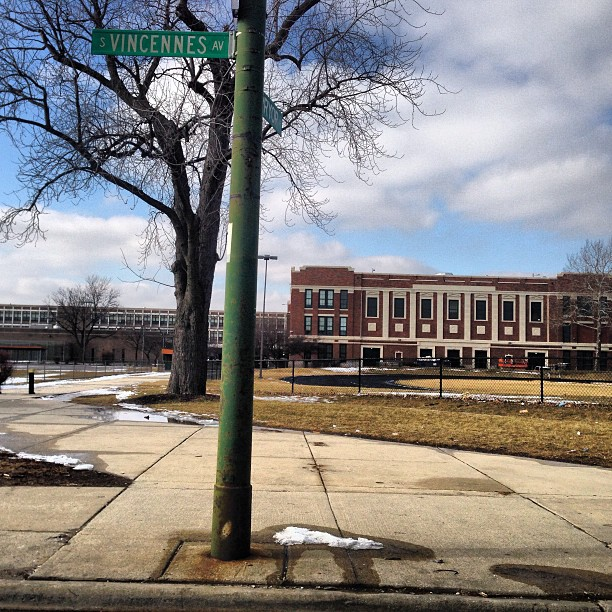building: (291, 262, 612, 388), (1, 302, 288, 368)
sign: (90, 26, 235, 60)
sky: (343, 1, 612, 268)
tree: (1, 1, 409, 417)
